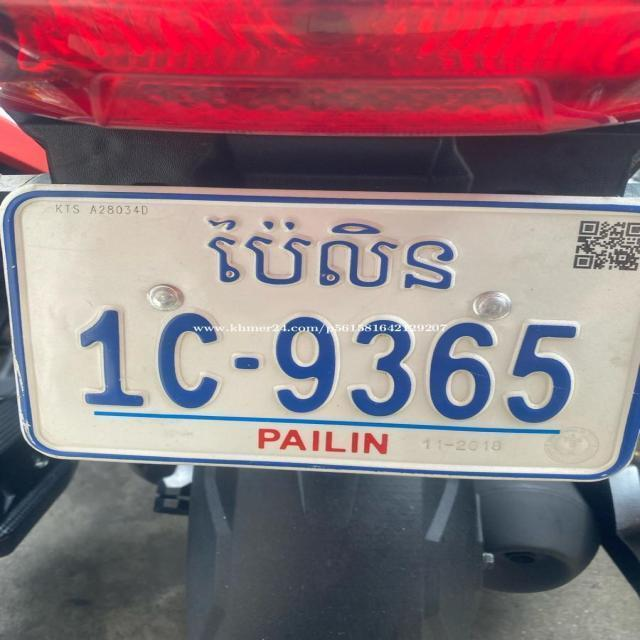Pailin: (199, 208, 464, 304)
